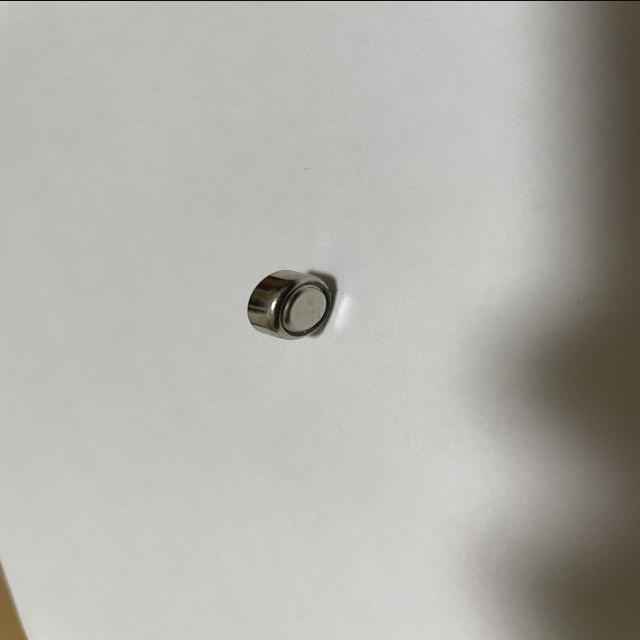COIN: (248, 268, 331, 338)
